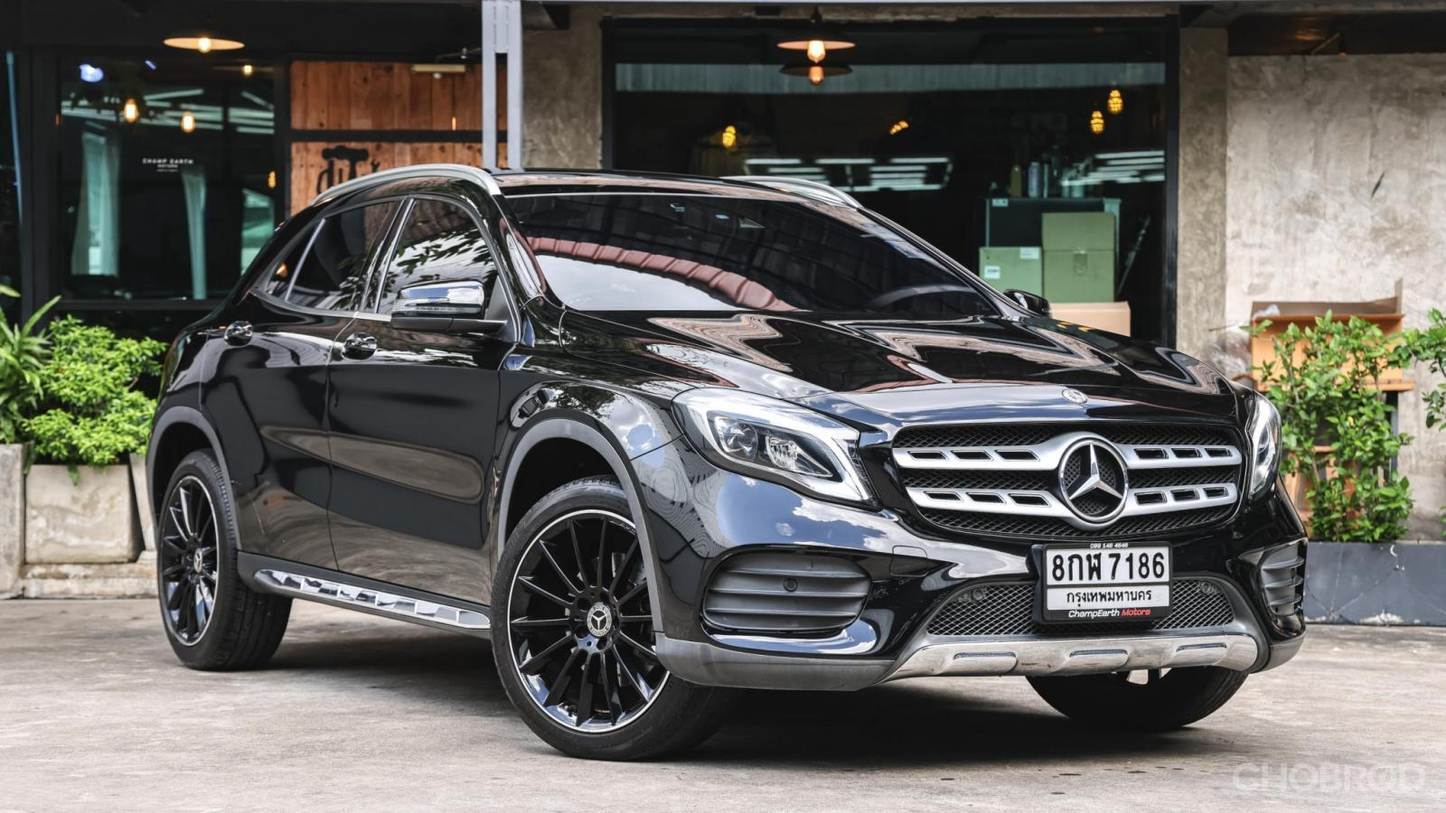license-plate: (1038, 545, 1173, 624)
